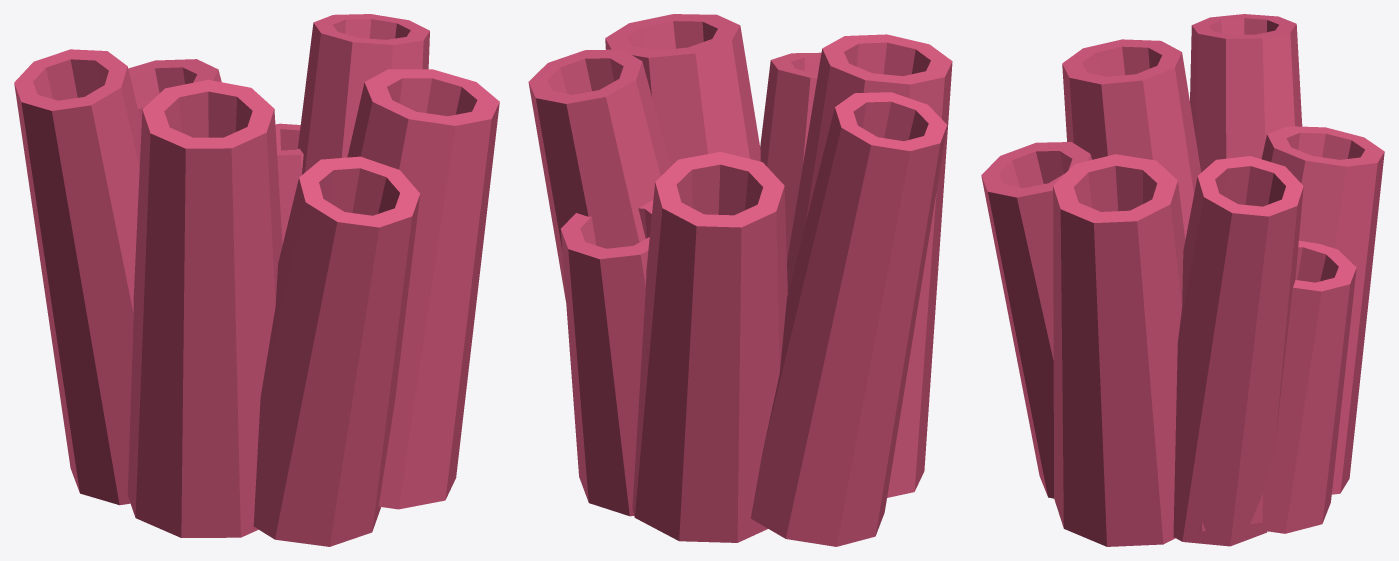
File: coral_003a_tube.glb
The picture shows the model from 3 angles, left to right: view 1: azimuth 30°, elevation 25°; view 2: azimuth 150°, elevation 25°; view 3: azimuth 270°, elevation 25°; orthographic projection. The views are drawn at different scales.
Parts seen in each view (by area): view 1: coral_003a_tube__mesh; view 2: coral_003a_tube__mesh; view 3: coral_003a_tube__mesh.
Part boxes in pixels (box(x1,y1,x2,y2)): coral_003a_tube__mesh: box(14, 14, 499, 546); coral_003a_tube__mesh: box(528, 14, 952, 546); coral_003a_tube__mesh: box(981, 14, 1384, 546).
Bounding box in the file's own units: 0.6501 × 0.6663 × 0.6191.
